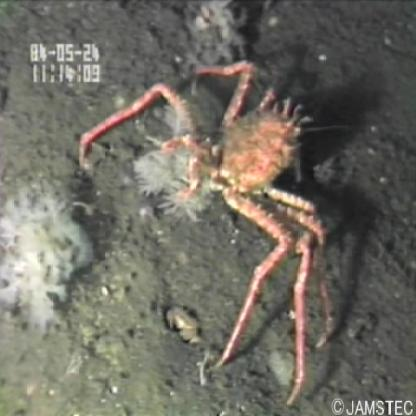Bio: (75, 54, 339, 416)
